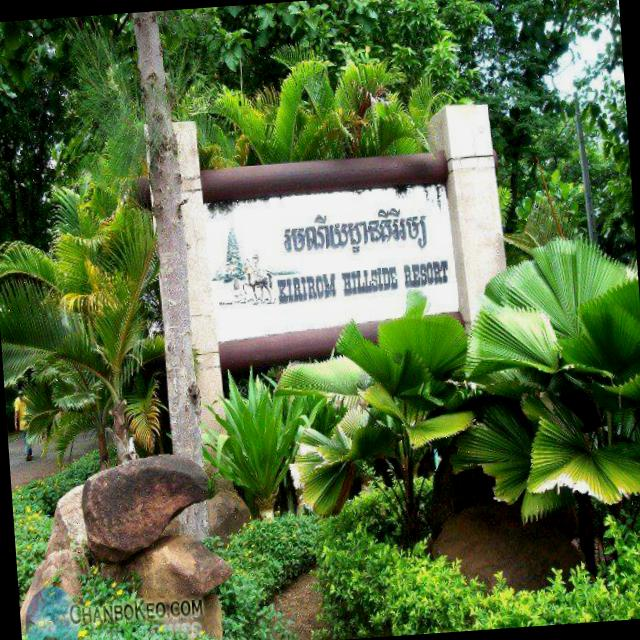Yolov11kh: (277, 204, 435, 265)
